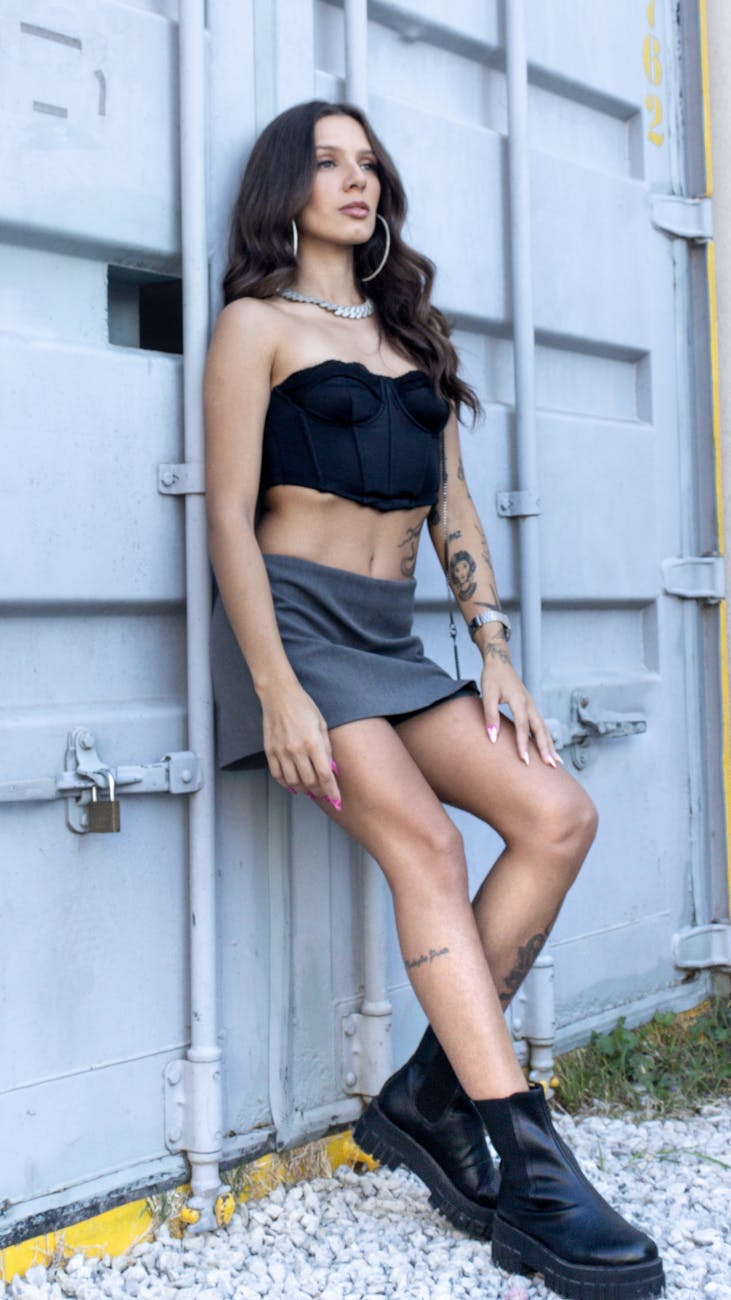crop_top: (231, 348, 476, 517)
short_medium_skirt: (212, 540, 479, 732)
